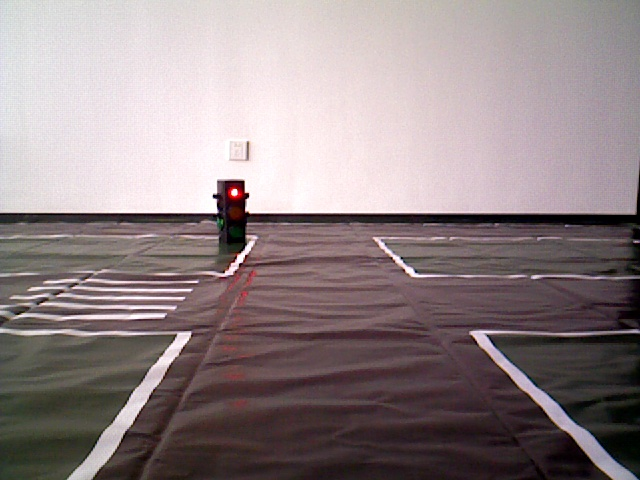red: (215, 183, 245, 248)
